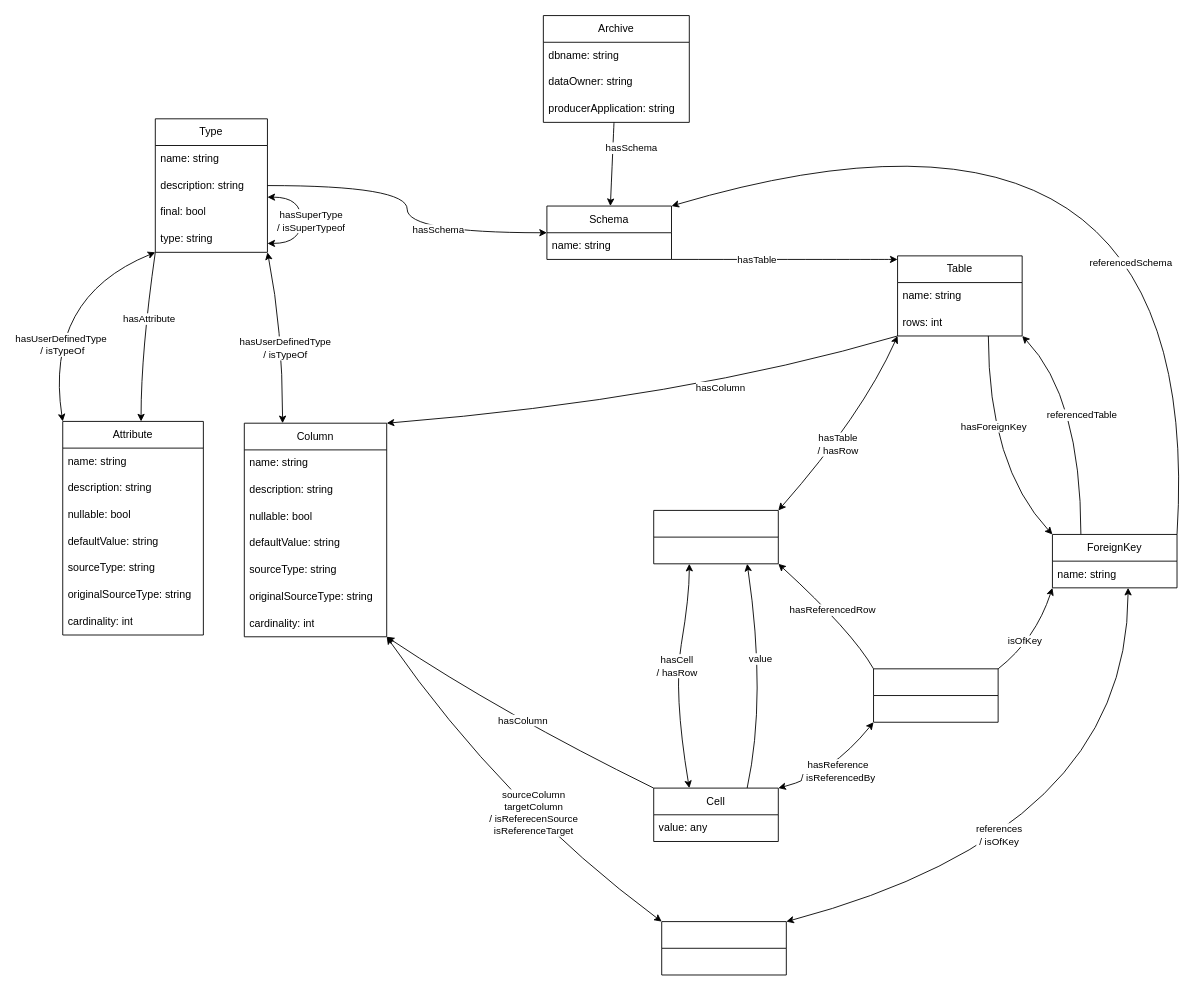
This 1194x991 diagram has some shape labels left out. Here are the shapes that lost their labels. From the top down, the centre of each, then its label:
At (715,537): "Row".
At (935,695): "Reference".
At (723,948): "ColumnReference".
